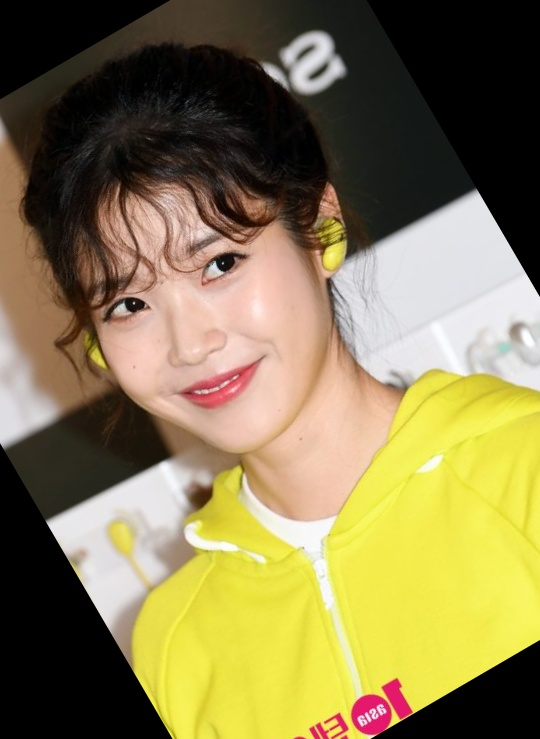earphone: (281, 180, 373, 282)
